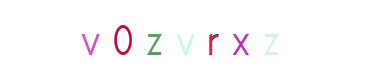0: (107, 0, 187, 80)
R: (133, 0, 213, 80)
V: (83, 0, 163, 80), (127, 0, 207, 80)
X: (147, 0, 227, 80)
Z: (107, 0, 187, 80), (183, 0, 263, 80)
